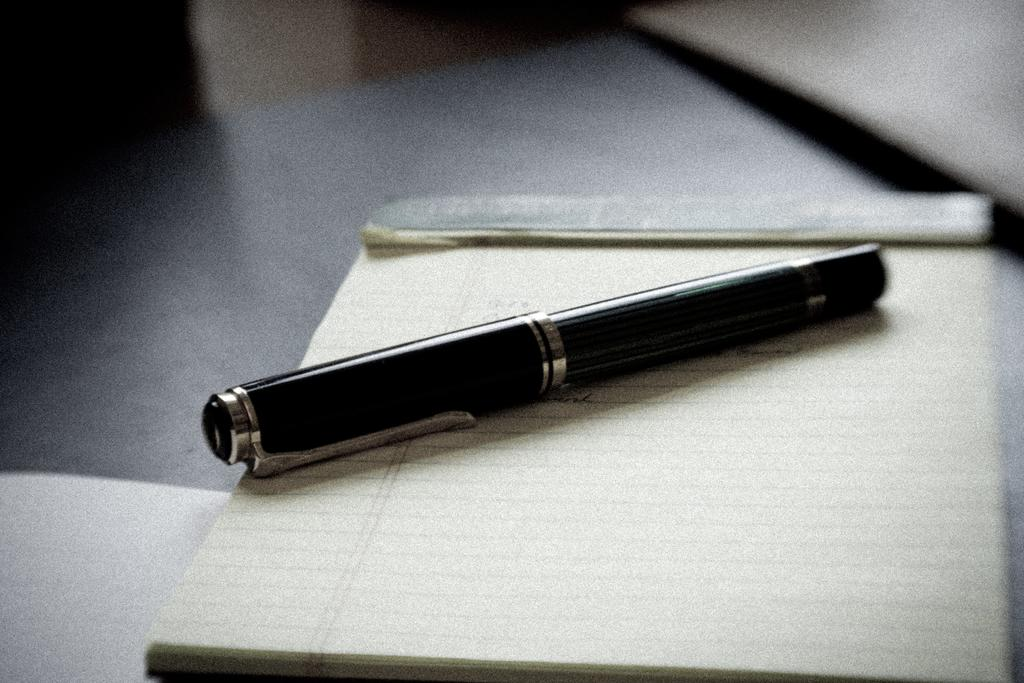pen: (198, 243, 893, 479)
